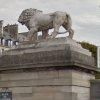Statue: (13, 4, 90, 48)
